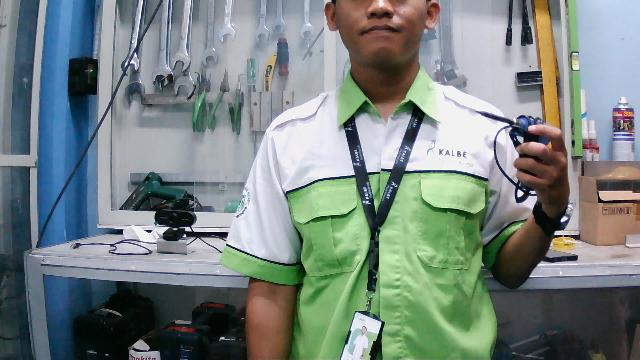solder_electrical: (474, 104, 556, 204)
